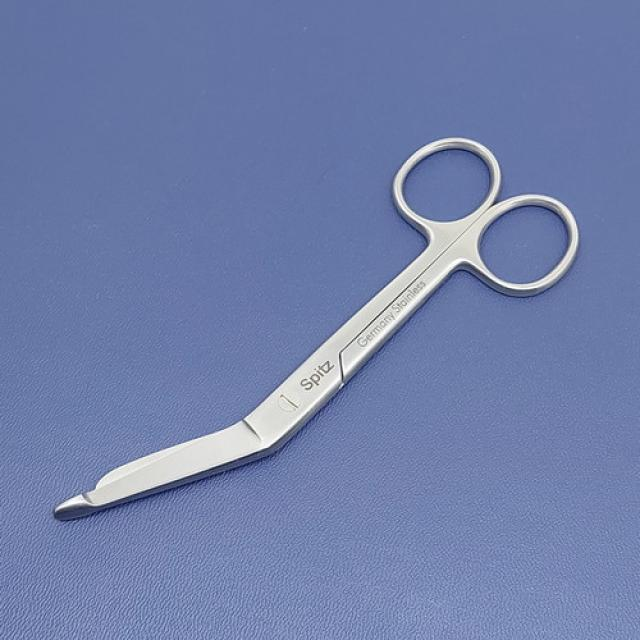Gunting: (54, 138, 581, 524)
